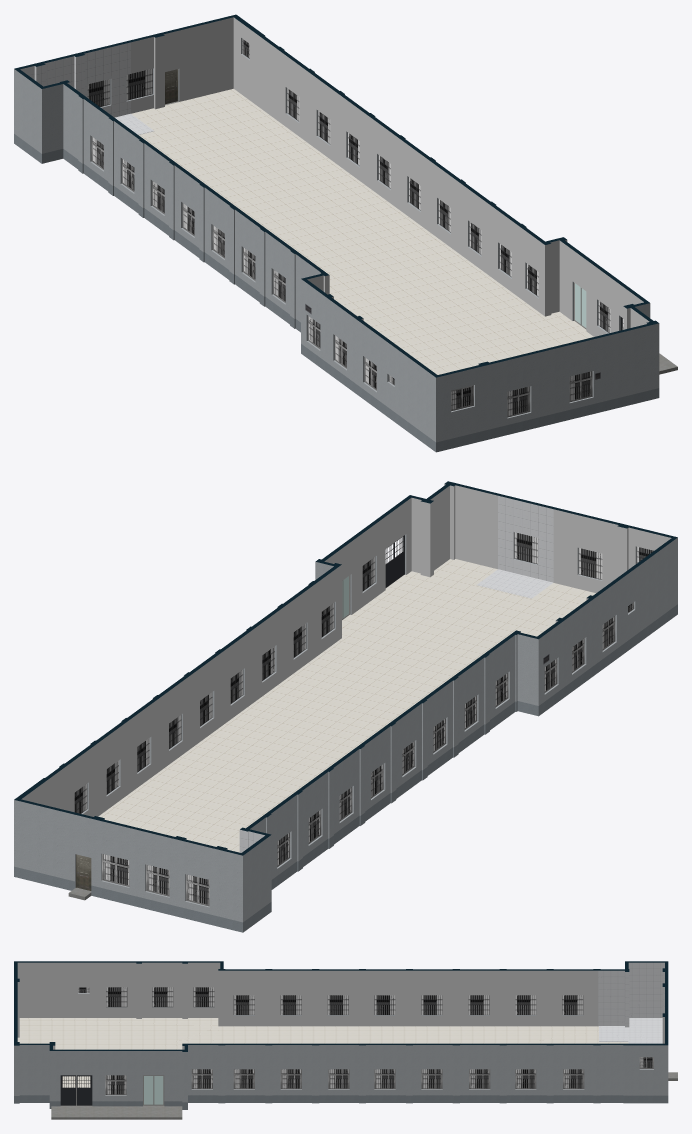
File: hkjls_hkjls_f01_out_T005.obj
3 views of the same model, one above another, from view 1: azimuth 30°, elevation 25°; view 2: azimuth 150°, elevation 25°; view 3: azimuth 270°, elevation 25° (orthographic). The views are drawn at different scales.
Parts seen in each view (by area): view 1: hkjls_hkjls_f01_out_008_H005, hkjls_hkjls_f01_out_005_H005, hkjls_hkjls_f01_out_003_H005, hkjls_hkjls_f01_out_ch_002_T015, hkjls_hkjls_f01_out_004_H005, hkjls_hkjls_f01_out_007_H005, hkjls_hkjls_f01_out_006_H005, hkjls_hkjls_f01_out_ch_001_T015; view 2: hkjls_hkjls_f01_out_008_H005, hkjls_hkjls_f01_out_005_H005, hkjls_hkjls_f01_out_003_H005, hkjls_hkjls_f01_out_ch_002_T015, hkjls_hkjls_f01_out_004_H005, hkjls_hkjls_f01_out_007_H005, hkjls_hkjls_f01_out_006_H005, hkjls_hkjls_f01_out_ch_001_T015; view 3: hkjls_hkjls_f01_out_003_H005, hkjls_hkjls_f01_out_005_H005, hkjls_hkjls_f01_out_008_H005, hkjls_hkjls_f01_out_ch_002_T015, hkjls_hkjls_f01_out_006_H005, hkjls_hkjls_f01_out_004_H005, hkjls_hkjls_f01_out_007_H005, hkjls_hkjls_f01_out_ch_001_T015, hkjls_hkjls_f01_out_009_H005, hkjls_hkjls_f01_out_001b_r, hkjls_hkjls_f01_out_001b_l, hkjls_hkjls_f01_out_002a_r (+1 smaller).
Boxes of the visible parts, <box> form: hkjls_hkjls_f01_out_008_H005: <box>131,88,593,374</box>; hkjls_hkjls_f01_out_005_H005: <box>14,36,659,442</box>; hkjls_hkjls_f01_out_003_H005: <box>131,17,649,364</box>; hkjls_hkjls_f01_out_ch_002_T015: <box>87,39,610,415</box>; hkjls_hkjls_f01_out_004_H005: <box>14,134,659,452</box>; hkjls_hkjls_f01_out_007_H005: <box>14,14,658,377</box>; hkjls_hkjls_f01_out_006_H005: <box>20,42,153,134</box>; hkjls_hkjls_f01_out_ch_001_T015: <box>91,136,592,417</box>; hkjls_hkjls_f01_out_008_H005: <box>98,559,595,852</box>; hkjls_hkjls_f01_out_005_H005: <box>14,484,677,922</box>; hkjls_hkjls_f01_out_003_H005: <box>21,485,671,819</box>; hkjls_hkjls_f01_out_ch_002_T015: <box>74,532,653,904</box>; hkjls_hkjls_f01_out_004_H005: <box>14,604,677,932</box>; hkjls_hkjls_f01_out_007_H005: <box>14,481,677,855</box>; hkjls_hkjls_f01_out_006_H005: <box>185,495,553,852</box>; hkjls_hkjls_f01_out_ch_001_T015: <box>102,602,633,906</box>; hkjls_hkjls_f01_out_003_H005: <box>17,962,664,1049</box>; hkjls_hkjls_f01_out_005_H005: <box>14,993,668,1102</box>; hkjls_hkjls_f01_out_008_H005: <box>17,1018,628,1105</box>; hkjls_hkjls_f01_out_ch_002_T015: <box>78,987,652,1094</box>; hkjls_hkjls_f01_out_006_H005: <box>598,962,664,1043</box>; hkjls_hkjls_f01_out_004_H005: <box>14,1095,668,1109</box>; hkjls_hkjls_f01_out_007_H005: <box>14,961,668,1051</box>; hkjls_hkjls_f01_out_ch_001_T015: <box>105,1057,653,1095</box>; hkjls_hkjls_f01_out_009_H005: <box>51,1072,677,1119</box>; hkjls_hkjls_f01_out_001b_r: <box>61,1075,76,1105</box>; hkjls_hkjls_f01_out_001b_l: <box>76,1075,91,1105</box>; hkjls_hkjls_f01_out_002a_r: <box>144,1076,153,1104</box>.
Size of the model in its own units: 1675 by 450 by 4673.
16 materials, 16 textured.
